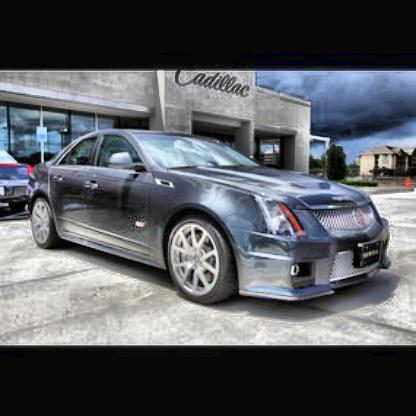Cadillac CTS-V Sedan 2012: (30, 127, 396, 315)
